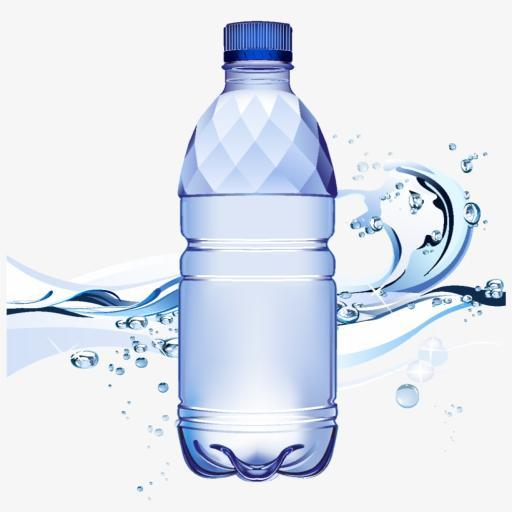bottle: (168, 14, 346, 488)
